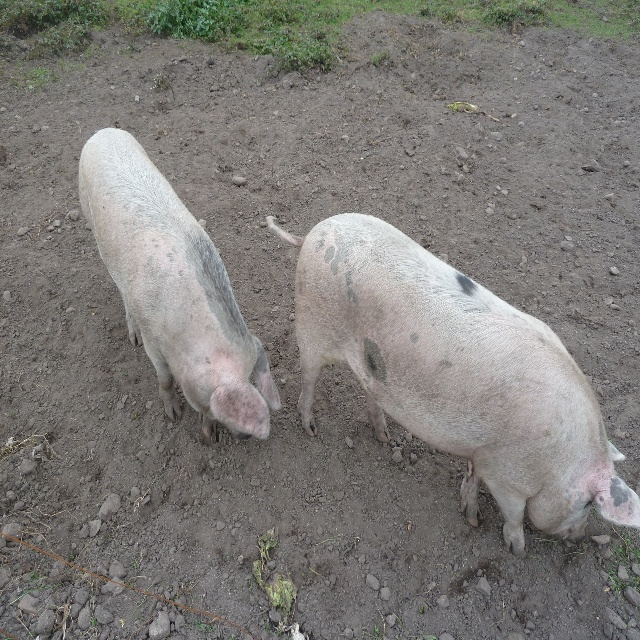Pig: (265, 215, 640, 559), (78, 128, 284, 449)
